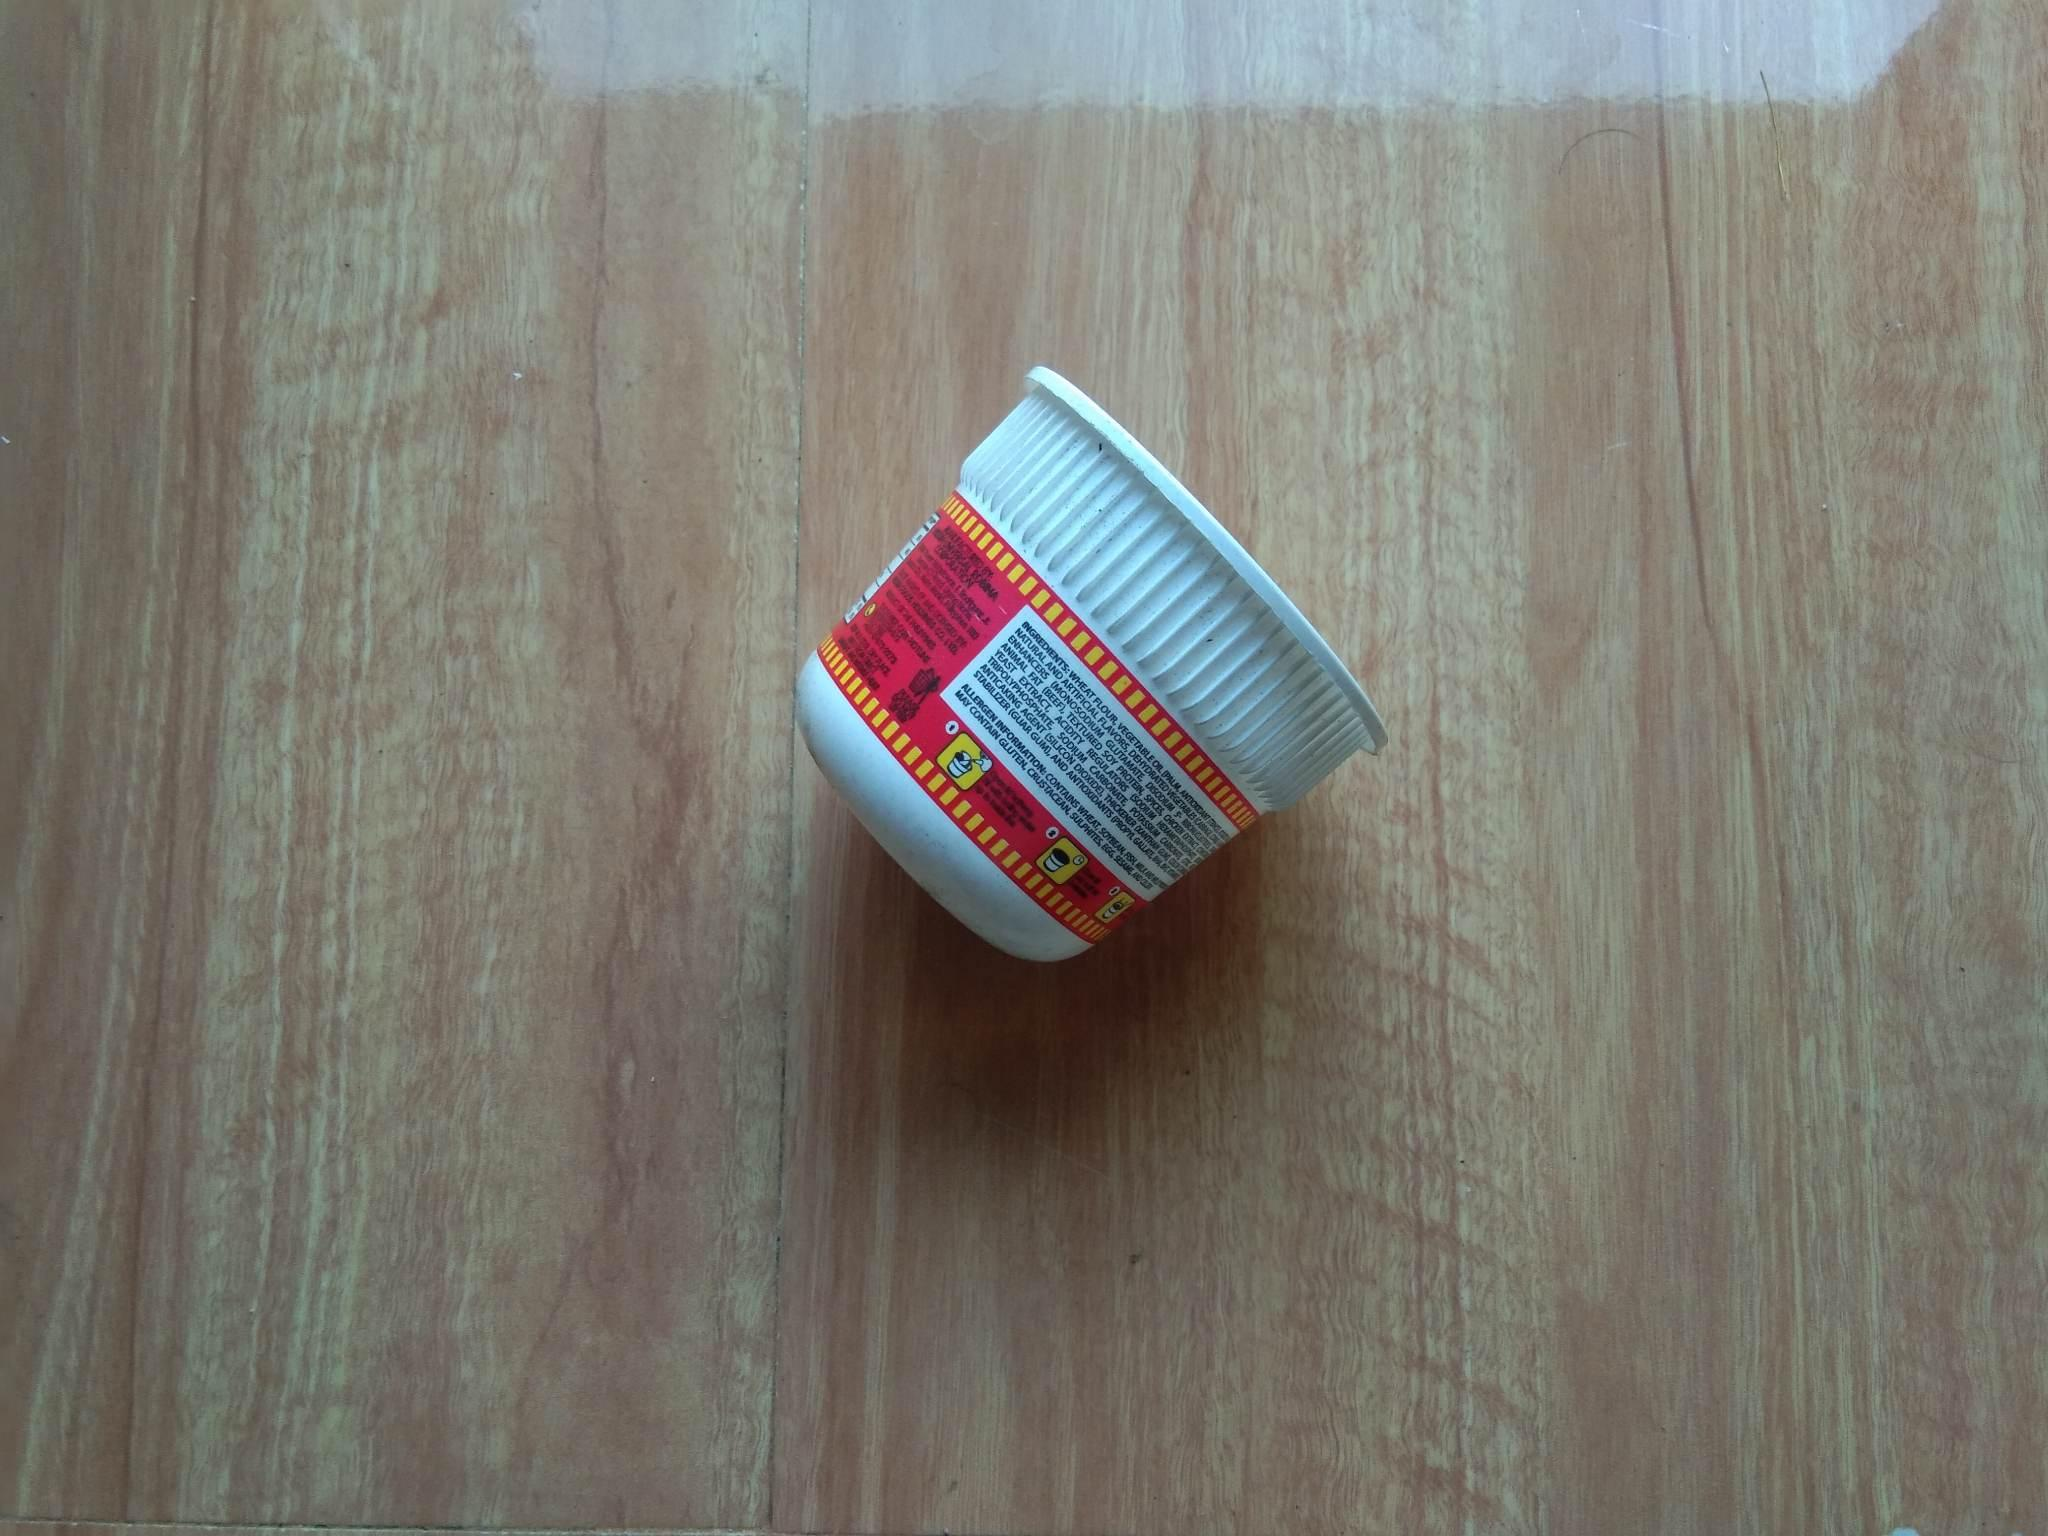plastic: (698, 276, 1413, 1023)
